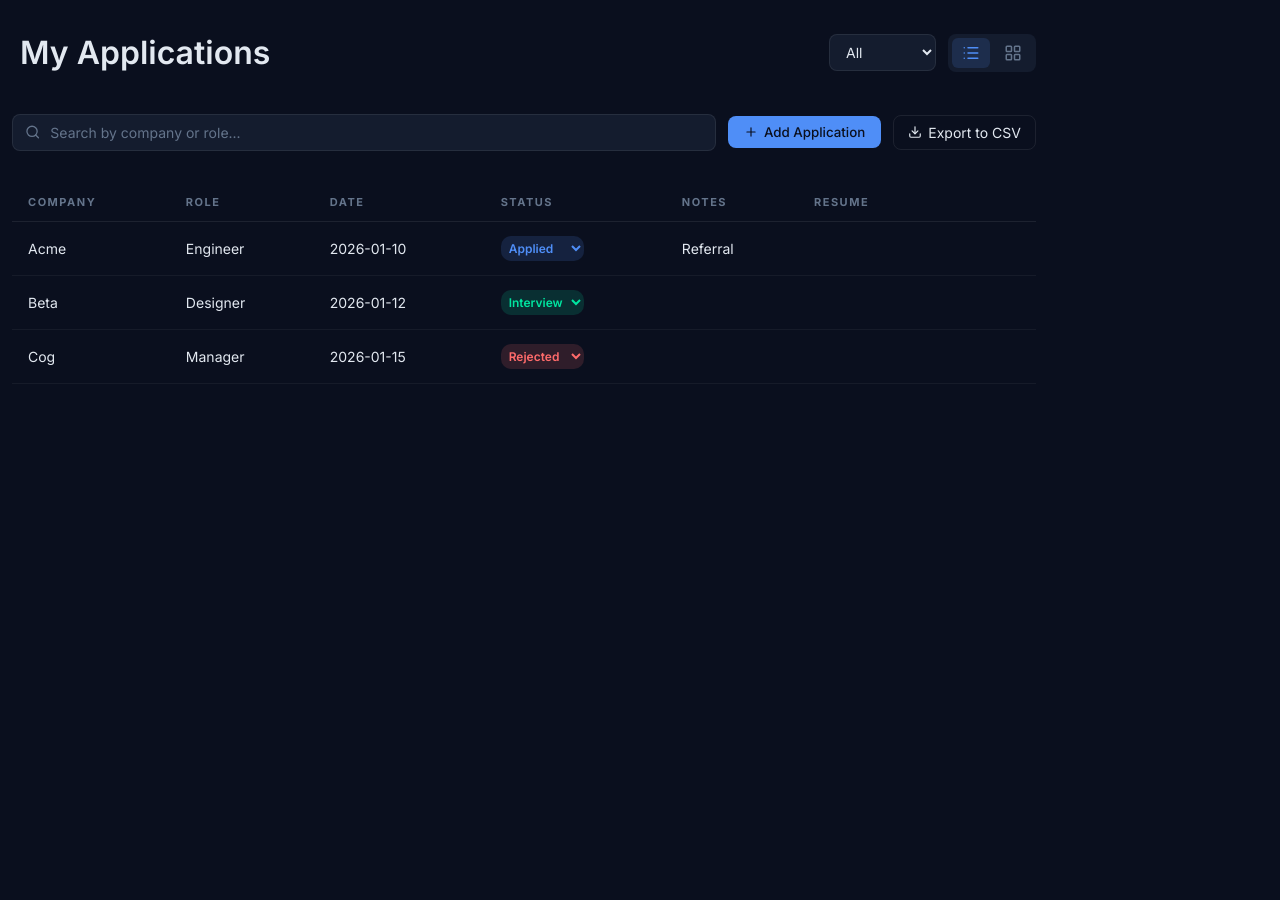
Scenario: Applied — Add form validation › can be cancelled, clearing the form
Click the button "Add Application" at [805, 132], box [728,116,881,148]
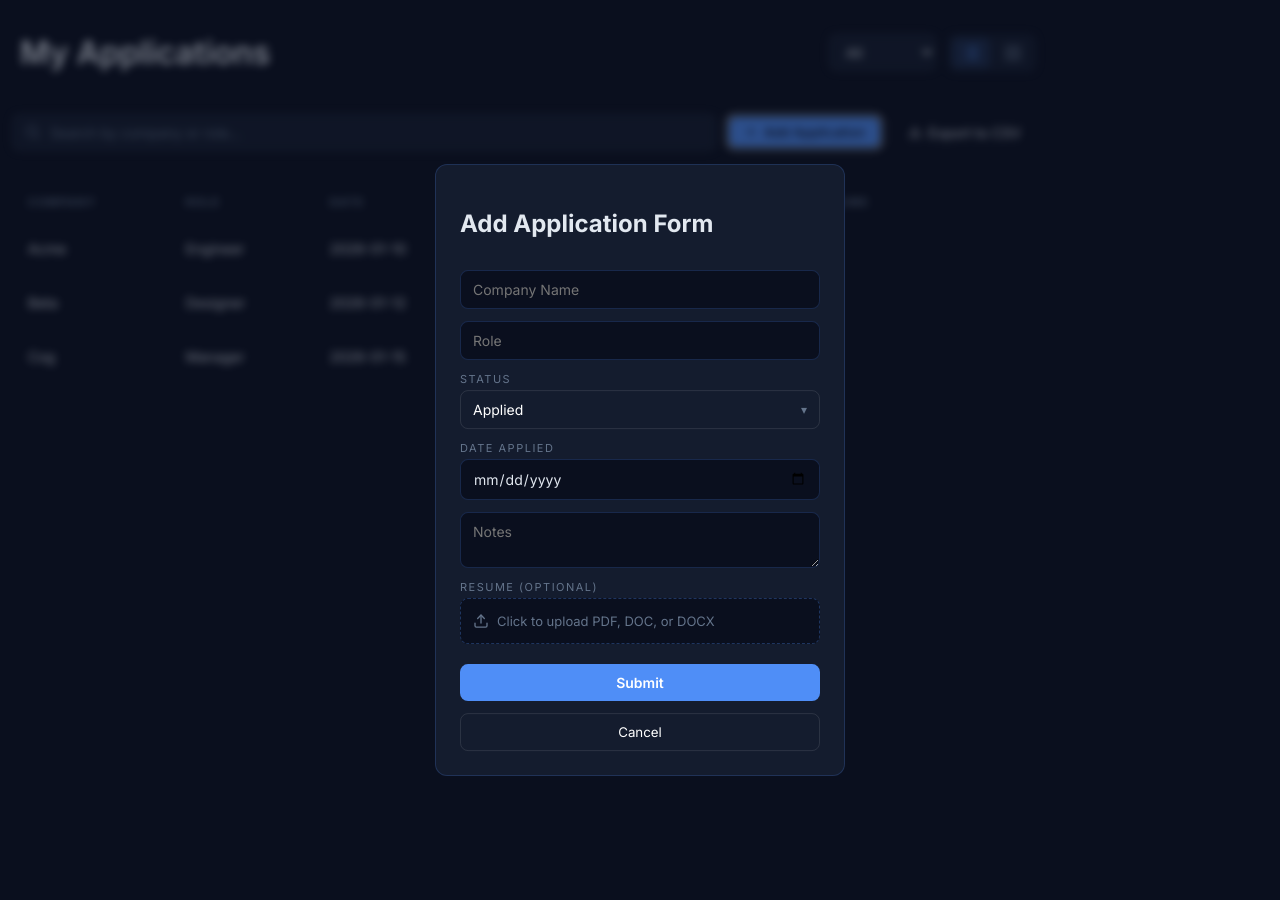
Type "Foo" into the field with placeholder "Company Name" at [640, 289], box [460,270,820,309]
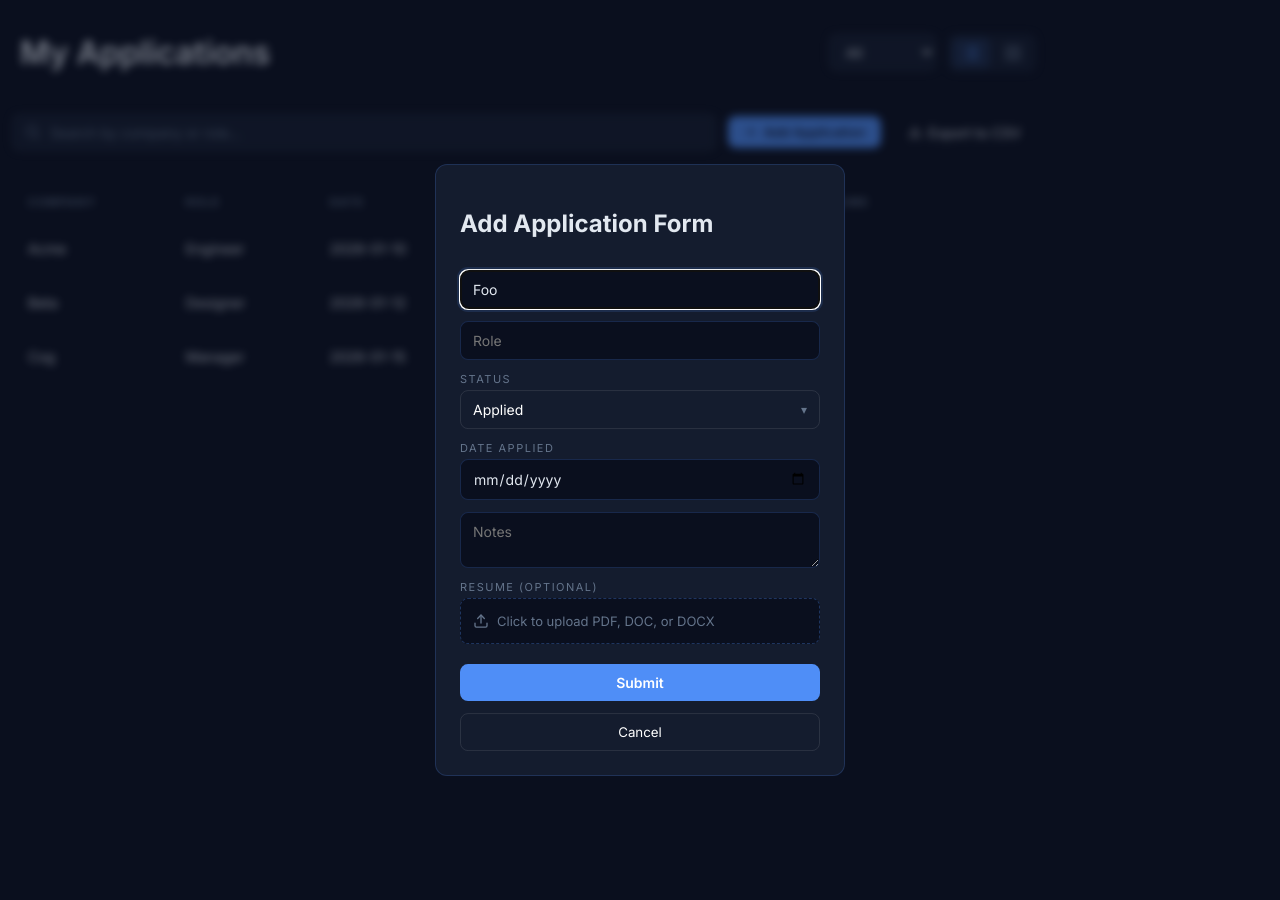
Click the button "Cancel" at [640, 732], box [460,713,820,751]
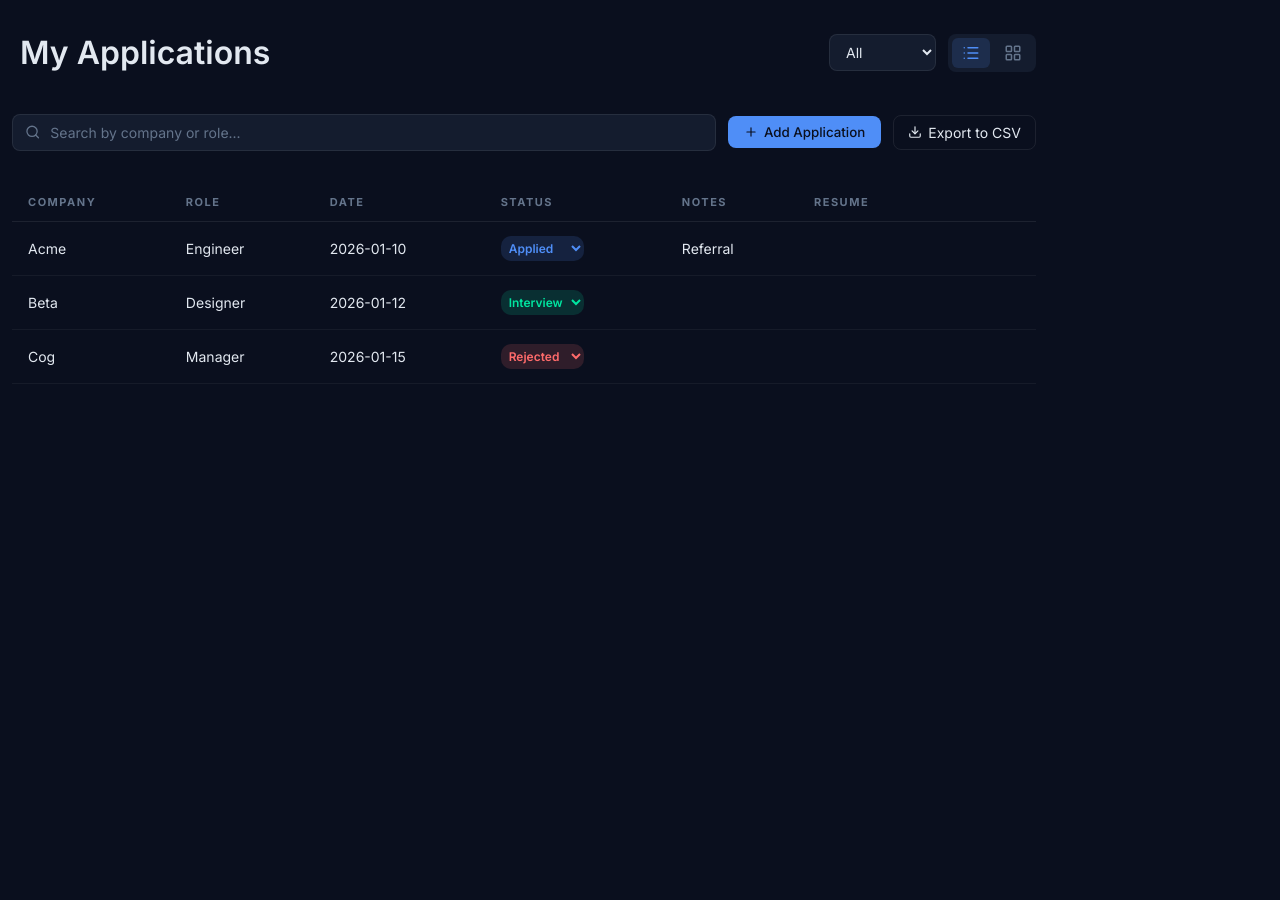
Now the heading "Add Application Form" is gone
